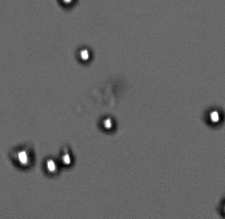Living Cell: (10, 142, 36, 171), (97, 113, 118, 134), (41, 154, 59, 178), (58, 147, 77, 168), (204, 106, 223, 127), (75, 44, 94, 65), (56, 1, 78, 9)
